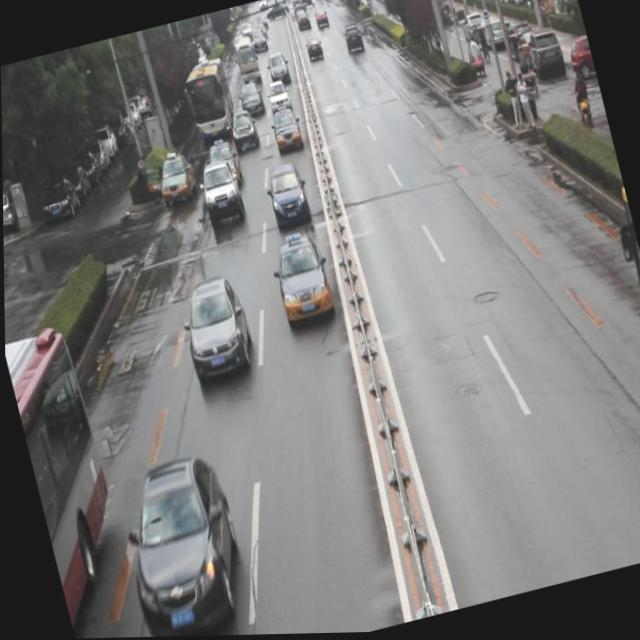car: (108, 449, 255, 638), (174, 274, 258, 388), (266, 230, 337, 327), (194, 158, 245, 228), (262, 163, 312, 230), (153, 148, 200, 208), (203, 137, 245, 196), (268, 107, 303, 154), (226, 107, 260, 154), (236, 81, 264, 120), (263, 78, 292, 115)
van: (4, 321, 134, 624), (605, 175, 640, 449), (180, 54, 239, 145)
